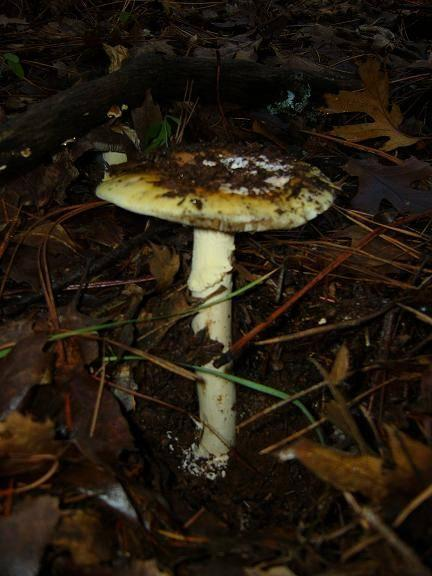edible_mushroom: (93, 141, 336, 477)
